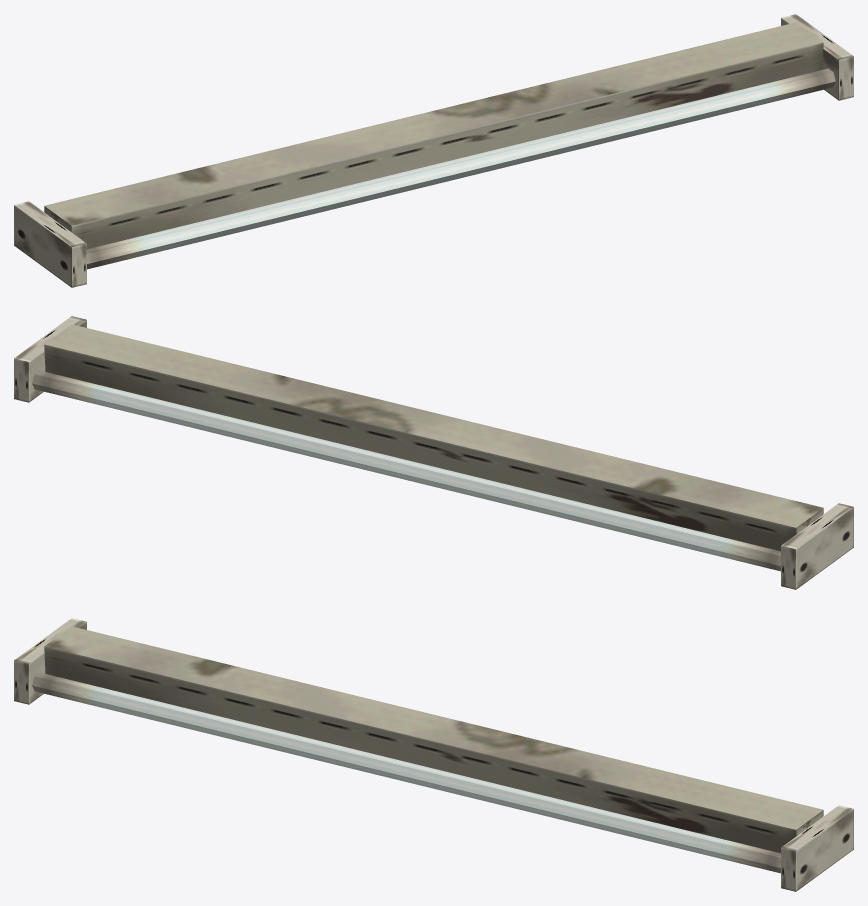
The model's file is fluorescent_fixture.obj.
3 views of the same model, one above another, from view 1: azimuth 30°, elevation 25°; view 2: azimuth 150°, elevation 25°; view 3: azimuth 330°, elevation 25° (orthographic).
Parts seen in each view (by area): view 1: fluorescent_fixture; view 2: fluorescent_fixture; view 3: fluorescent_fixture.
Boxes of the visible parts, x1,y1,x2,y2 form: fluorescent_fixture: (14,14,853,287); fluorescent_fixture: (14,316,853,589); fluorescent_fixture: (14,618,853,891).
Bounding box in the file's own units: 1.25 × 0.072 × 0.16.
2 materials, 2 textured.
